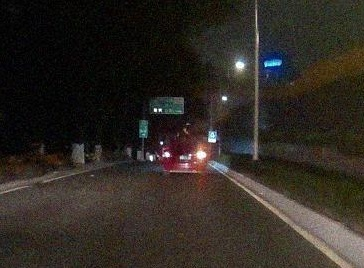L_light: (163, 152, 171, 157)
R_light: (196, 152, 205, 158)
T_light: (183, 144, 188, 145)
night-right: (163, 142, 206, 176)
